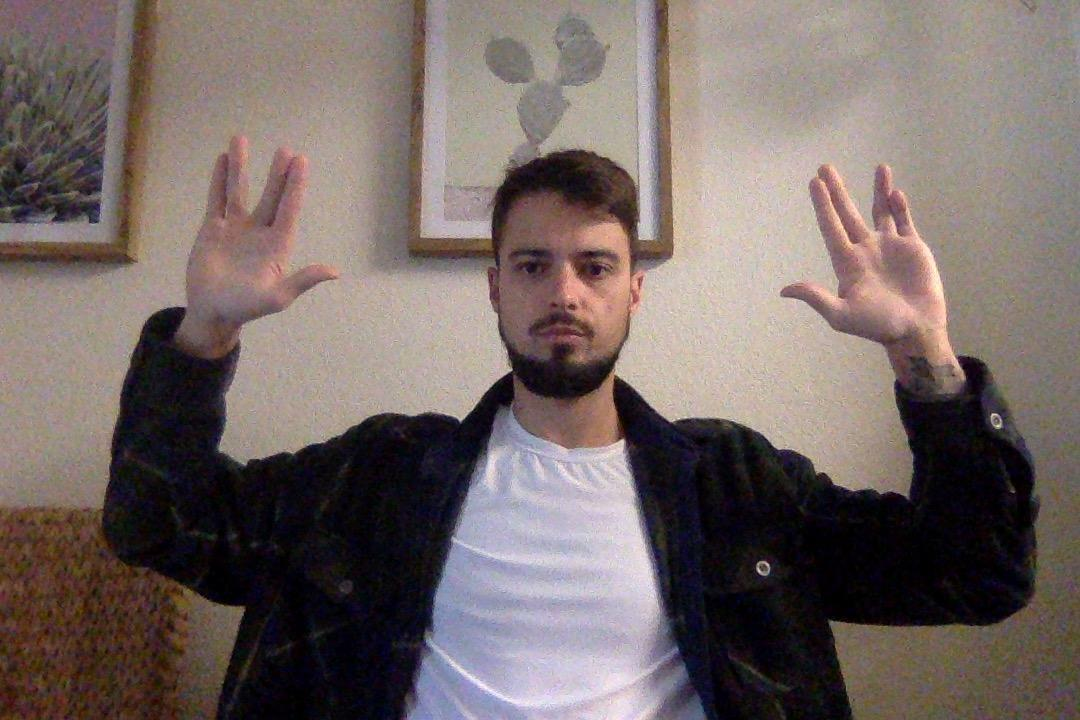Live-Long-Prosper: (776, 154, 965, 363), (175, 131, 337, 340)
